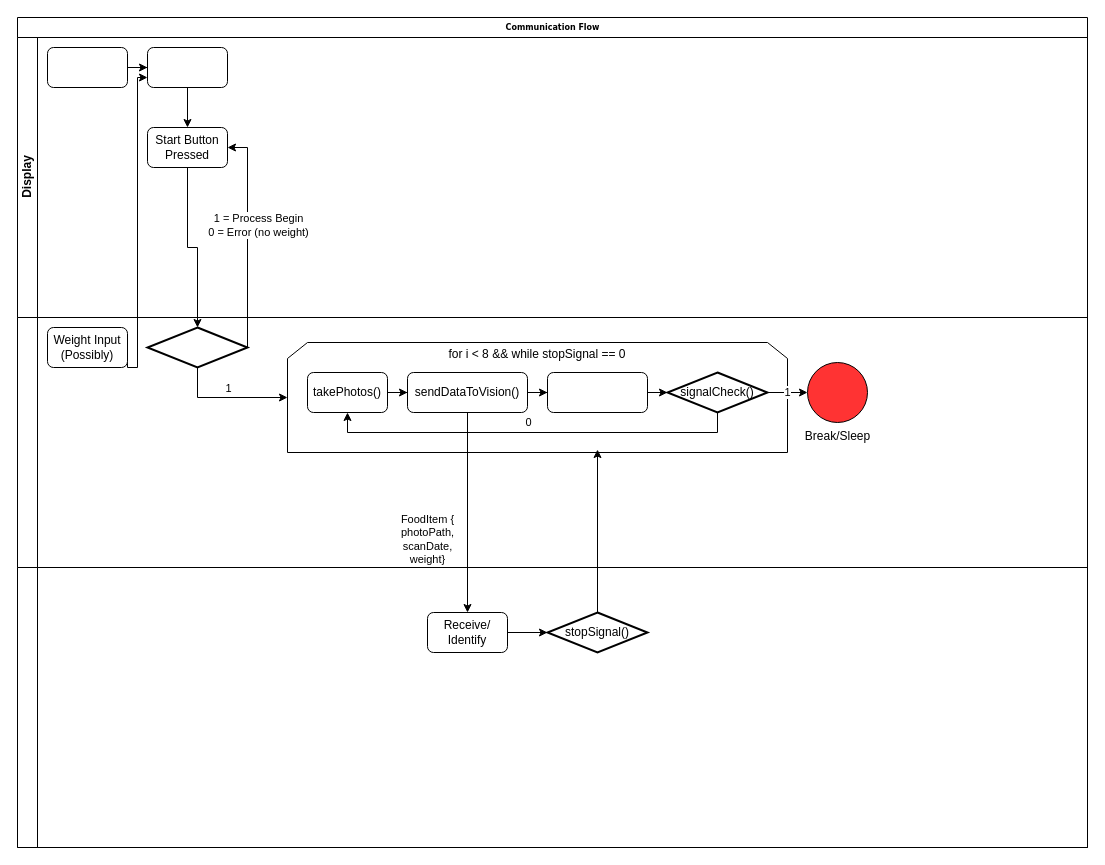
The diagram is 1105 pixels wide and 865 high, and some of its shapes have lost their labels. Here are the shapes that lost their labels. From the top down, the box of each, then its label:
(46, 46, 128, 88): Touch Input
(146, 46, 228, 88): Wake-Up Screen
(146, 326, 248, 368): getWeight()
(546, 372, 648, 412): rotatePlatform()
(16, 316, 1088, 568): Hardware
(16, 566, 1088, 848): Vision
